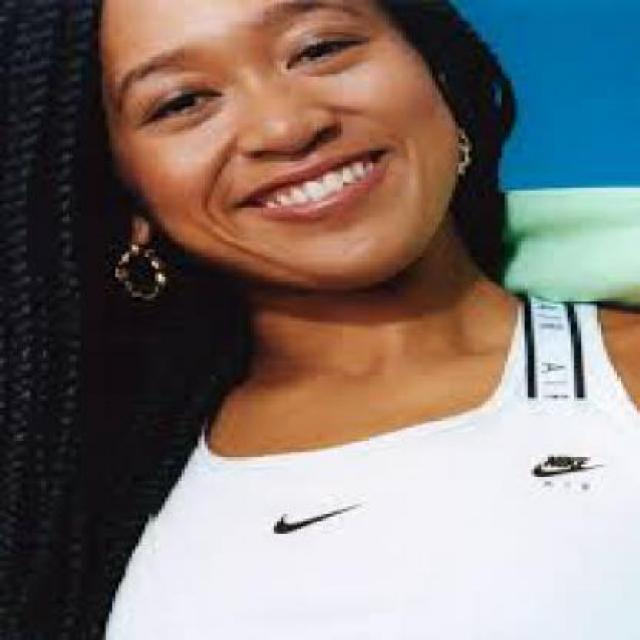Nike: (260, 499, 360, 532), (522, 447, 604, 478)
